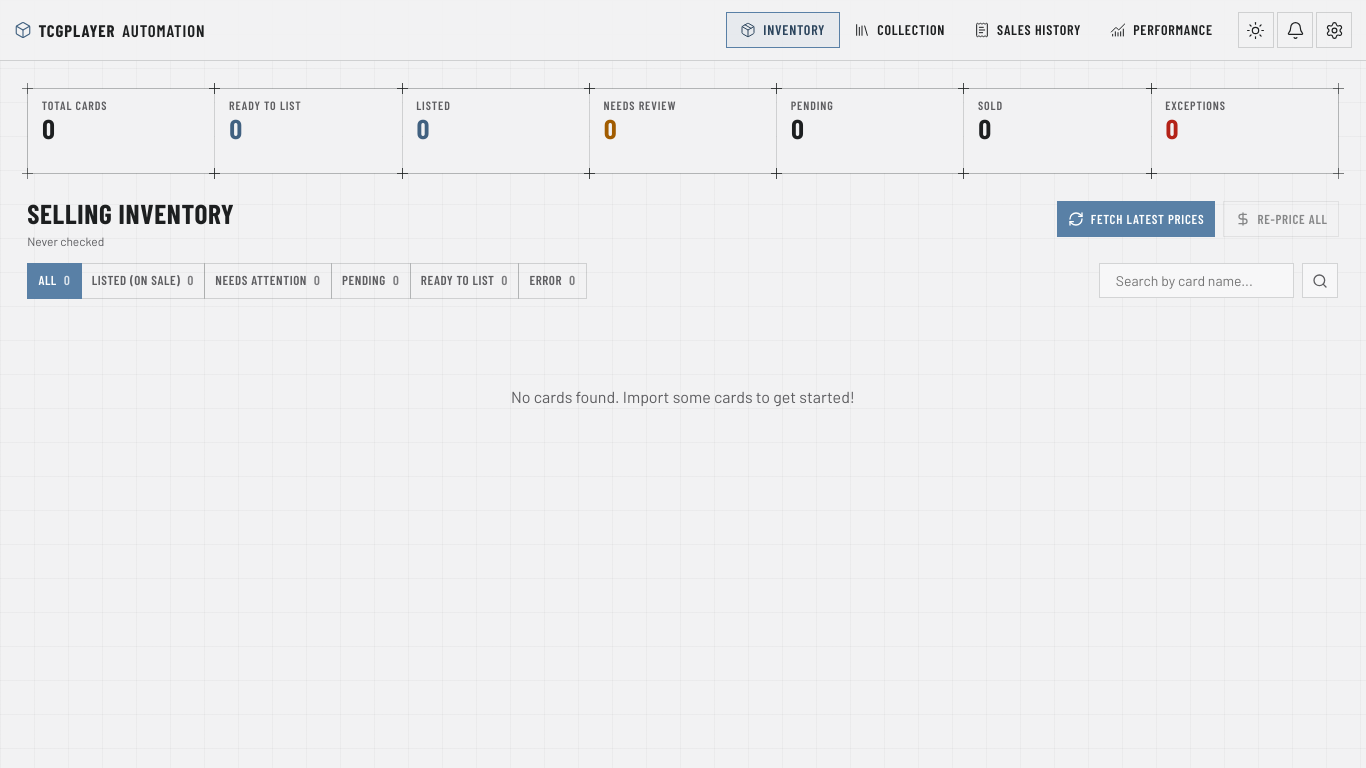
Scenario: App view tabs › switches to Collection without mutating selling inventory
Click the tab "Collection".
click(900, 30)  # box [840,12,960,48]
(page scrolled)
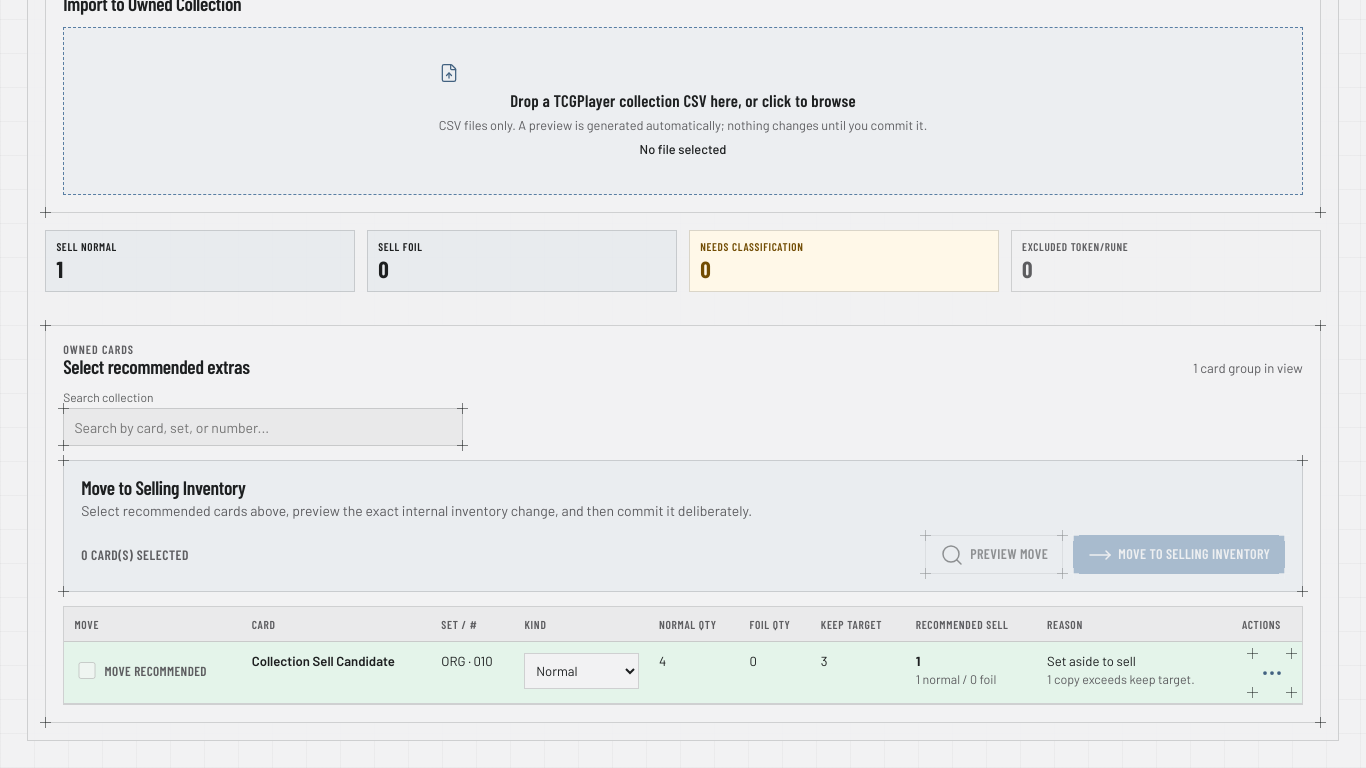
Expected: the text "Collection Sell Candidate" is shown, [252,652,395,668]
